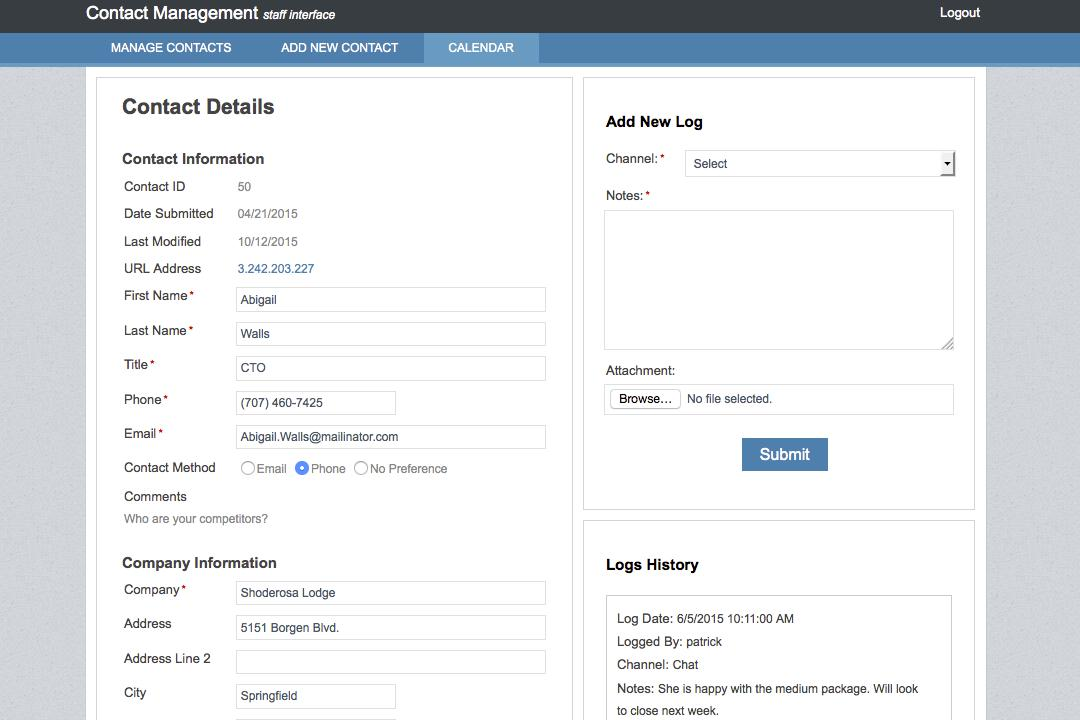button: (733, 429, 831, 480), (607, 390, 684, 412)
dropdown: (677, 146, 958, 191)
radiobutton: (352, 456, 449, 488), (292, 456, 350, 481), (238, 459, 291, 480)
textbox: (234, 580, 549, 611)
